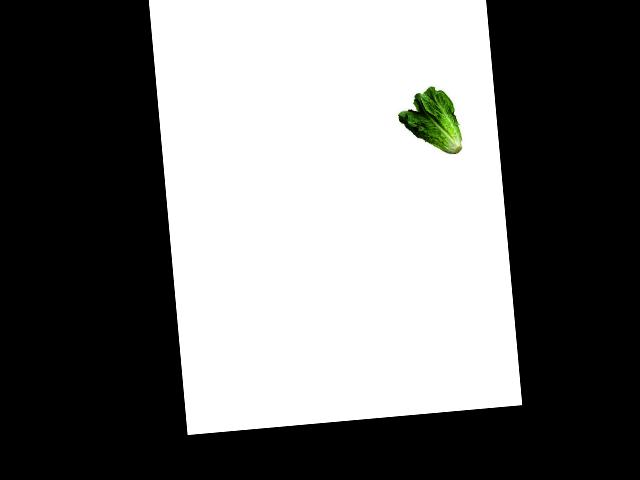lettuce: (392, 84, 466, 156)
